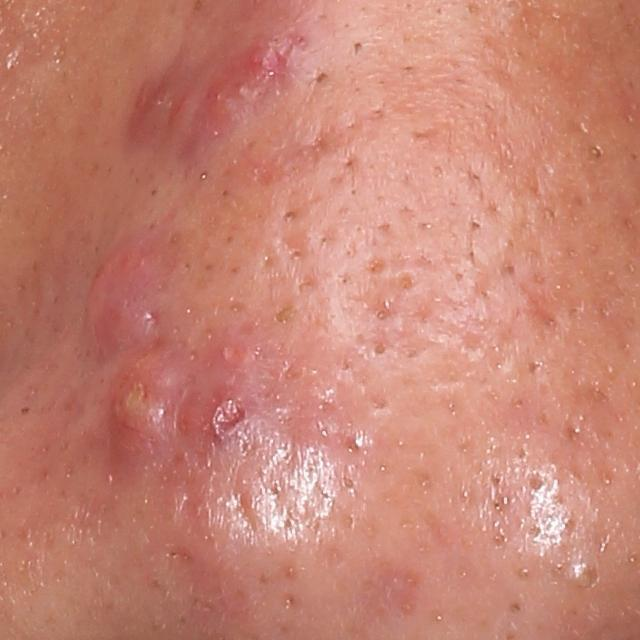comedo: (277, 204, 302, 226), (311, 69, 331, 86), (370, 341, 389, 358), (588, 143, 604, 160), (469, 217, 482, 230)
other: (566, 559, 597, 587)
papule: (202, 25, 312, 143), (111, 340, 193, 464), (192, 388, 271, 458), (135, 75, 188, 135)
